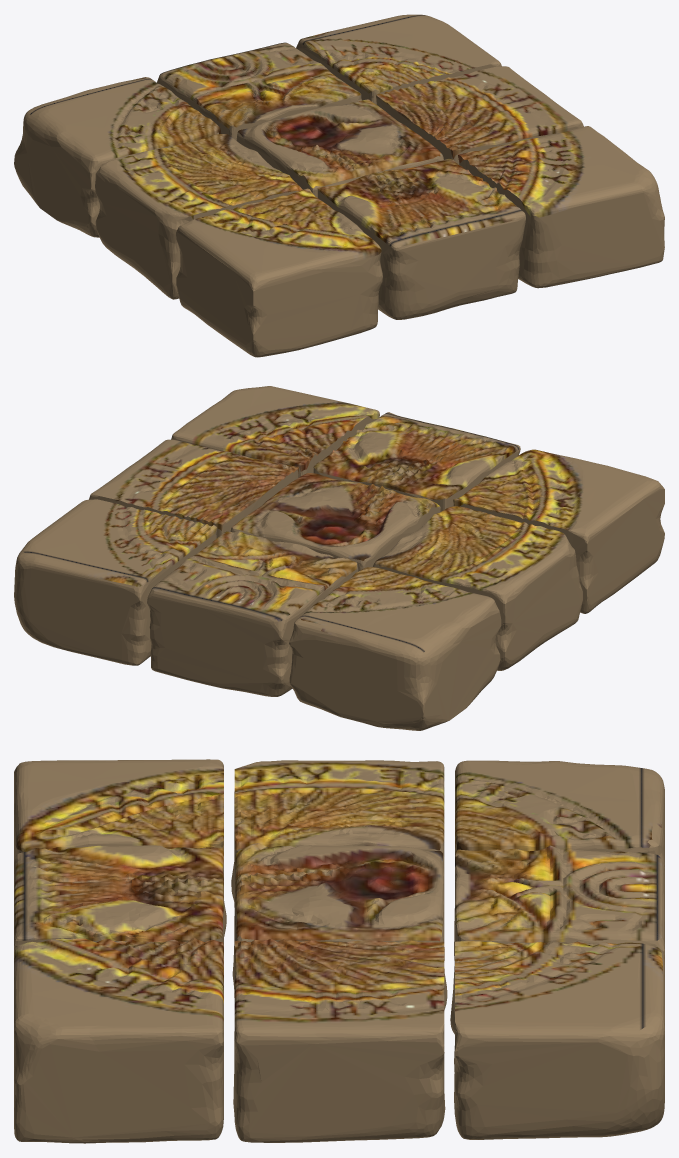
File: PuzzleBlocks.fbx
3 renders of one model, top to bottom at view 1: azimuth 30°, elevation 25°; view 2: azimuth 150°, elevation 25°; view 3: azimuth 270°, elevation 25°, orthographic. The views are drawn at different scales.
Parts seen in each view (by area): view 1: Cube.002, Cube.001, Cube.003, Cube.004, Cube.007, Cube.005, Cube.006, Cube.008, Cube.009; view 2: Cube.007, Cube.008, Cube.009, Cube.004, Cube.002, Cube.005, Cube.001, Cube.006, Cube.003; view 3: Cube.003, Cube.006, Cube.009, Cube.005, Cube.008, Cube.001, Cube.002, Cube.007, Cube.004.
Part boxes in pixels (x1,y1,x2,y2): Cube.002: [176, 188, 382, 357]; Cube.001: [317, 158, 525, 319]; Cube.003: [458, 126, 664, 288]; Cube.004: [95, 134, 302, 299]; Cube.007: [14, 77, 221, 237]; Cube.005: [236, 99, 443, 197]; Cube.006: [376, 66, 583, 164]; Cube.008: [157, 42, 361, 140]; Cube.009: [296, 14, 501, 104]; Cube.007: [289, 567, 501, 730]; Cube.008: [147, 531, 358, 696]; Cube.009: [14, 499, 217, 665]; Cube.004: [373, 506, 582, 670]; Cube.002: [453, 449, 664, 613]; Cube.005: [230, 473, 440, 571]; Cube.001: [313, 412, 520, 511]; Cube.006: [89, 439, 298, 537]; Cube.003: [171, 386, 379, 477]; Cube.003: [14, 938, 223, 1143]; Cube.006: [233, 939, 445, 1142]; Cube.009: [454, 941, 664, 1139]; Cube.005: [232, 843, 447, 1009]; Cube.008: [450, 845, 664, 1034]; Cube.001: [14, 845, 223, 957]; Cube.002: [14, 759, 226, 936]; Cube.007: [455, 760, 664, 867]; Cube.004: [231, 760, 444, 907].
Bounding box in the file's own units: 204 × 42.83 × 204.
